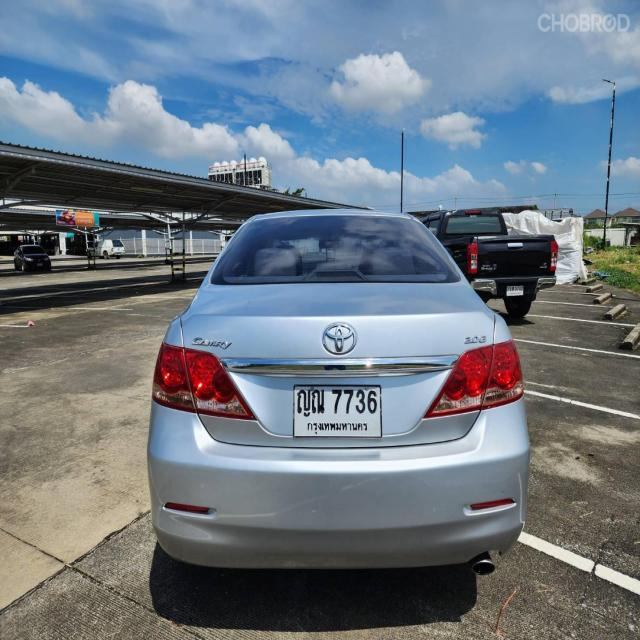license_plate: (292, 382, 383, 440), (505, 283, 527, 298)
